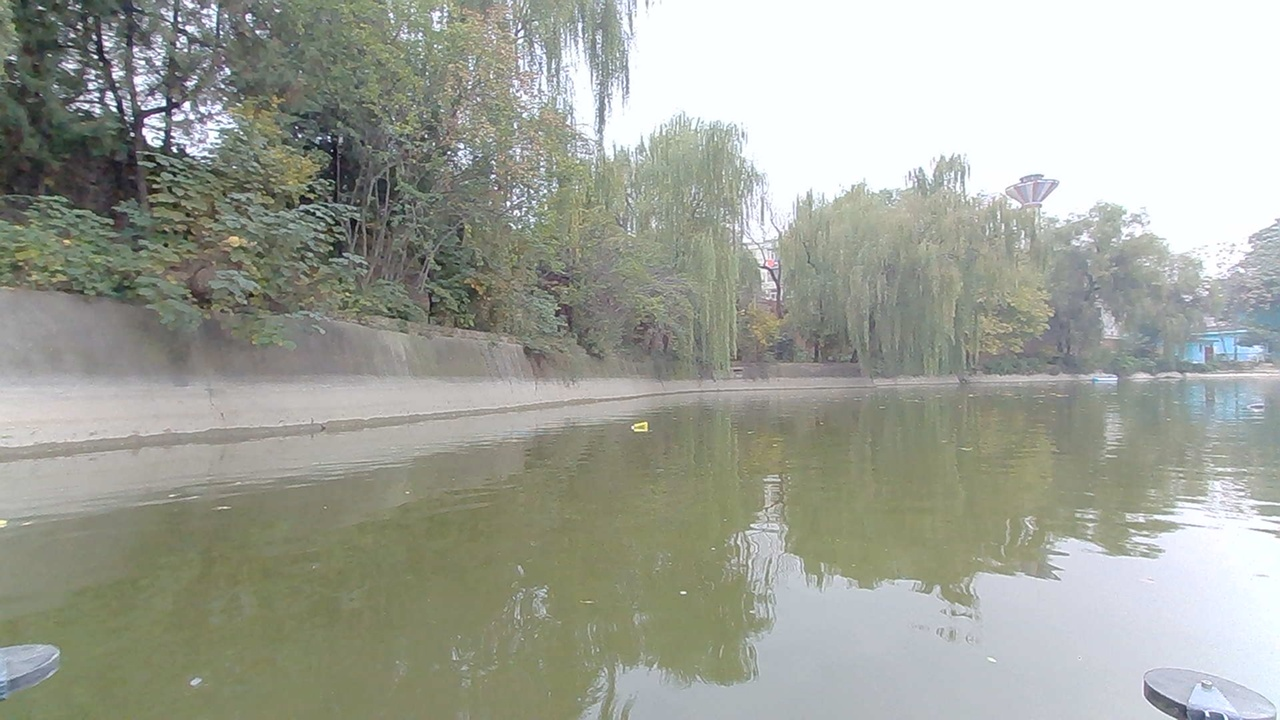bottle: (1238, 393, 1277, 415), (625, 415, 659, 438)
